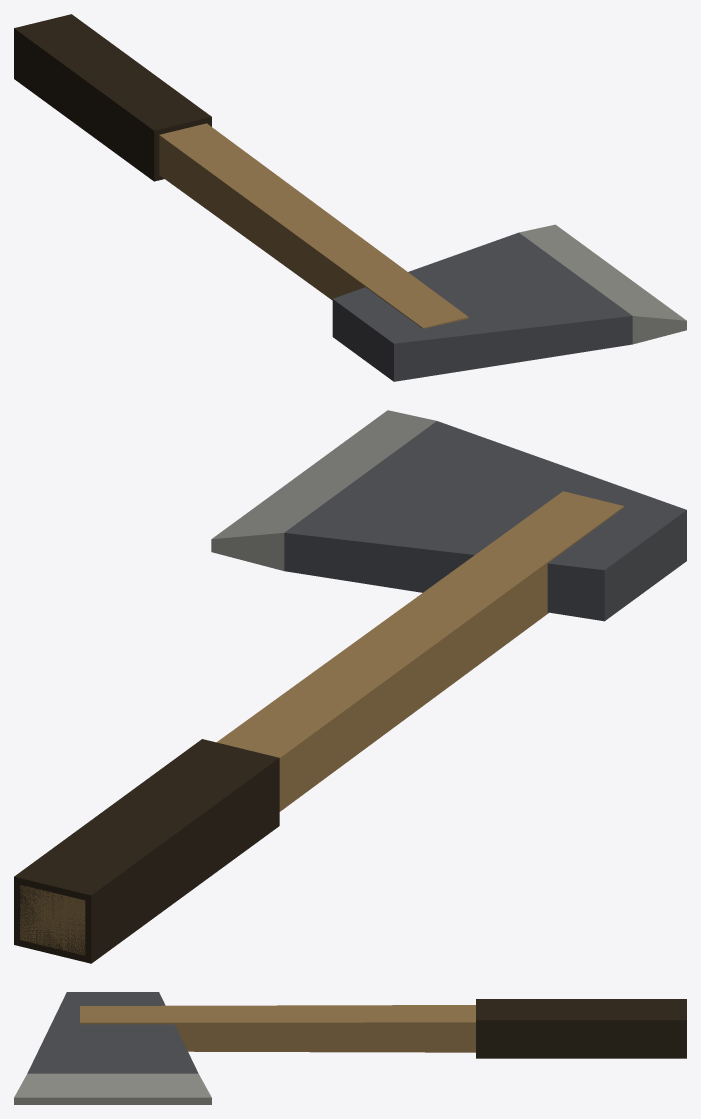
The model's file is weapon_hatchet.glb.
3 views of the same model, one above another, from view 1: azimuth 30°, elevation 25°; view 2: azimuth 150°, elevation 25°; view 3: azimuth 270°, elevation 25° (orthographic). The views are drawn at different scales.
Visible parts, largest first — view 1: weapon_hatchet; view 2: weapon_hatchet; view 3: weapon_hatchet.
Boxes of the visible parts, x1,y1,x2,y2 form: weapon_hatchet: (14, 14, 686, 381); weapon_hatchet: (14, 410, 686, 963); weapon_hatchet: (14, 992, 686, 1104).
Bounding box in the file's own units: 0.17 × 0.032 × 0.51.
